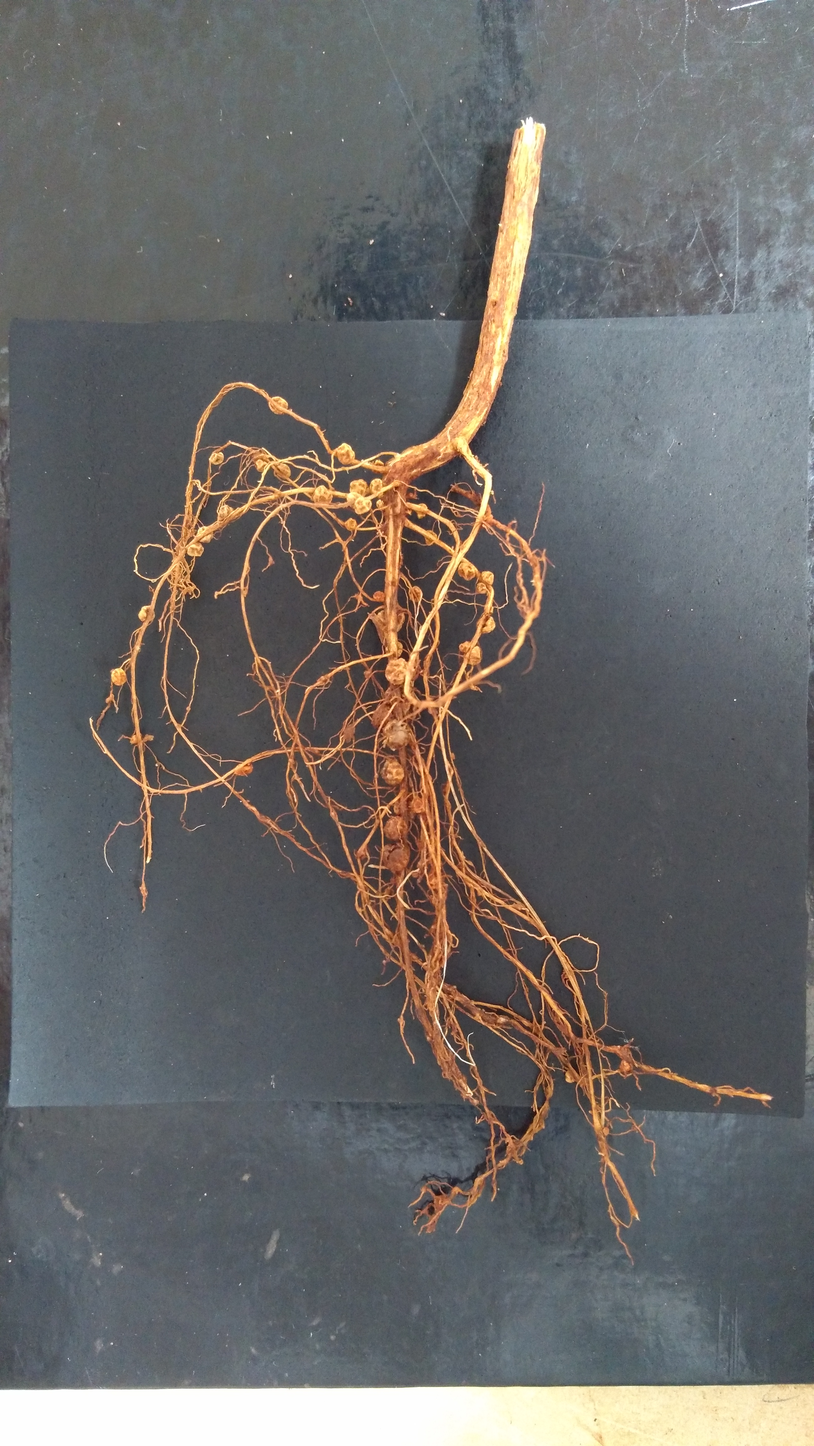nodule: (384, 685, 422, 722), (382, 718, 412, 750), (381, 843, 411, 872), (380, 756, 405, 786), (393, 792, 419, 819), (372, 702, 397, 729), (384, 657, 408, 685), (376, 609, 405, 632), (458, 640, 482, 666), (383, 816, 408, 839), (427, 859, 447, 886), (250, 449, 271, 473), (383, 489, 400, 516), (312, 484, 333, 505), (336, 443, 355, 465), (476, 614, 496, 634), (268, 396, 289, 415), (457, 561, 476, 581), (410, 794, 429, 813), (138, 604, 155, 625), (217, 504, 235, 522), (349, 479, 367, 497), (110, 667, 127, 686), (494, 1013, 514, 1029), (369, 478, 384, 499), (196, 525, 213, 543), (274, 462, 292, 479), (347, 492, 365, 509), (354, 496, 371, 514), (385, 640, 403, 657), (187, 540, 204, 557), (234, 761, 253, 776), (619, 1056, 634, 1073), (408, 585, 423, 602), (356, 843, 369, 861), (208, 451, 224, 465), (424, 529, 438, 545), (415, 503, 428, 520), (480, 570, 494, 585), (343, 724, 354, 743), (372, 459, 385, 474), (564, 1068, 575, 1083), (344, 518, 357, 530), (372, 591, 385, 602), (141, 733, 155, 743), (477, 582, 488, 594), (376, 499, 386, 512), (483, 513, 493, 526), (384, 887, 395, 898), (129, 734, 139, 745), (105, 692, 114, 704), (363, 668, 372, 679), (419, 1185, 428, 1193), (405, 507, 413, 516), (515, 1157, 523, 1165), (602, 1127, 609, 1136), (396, 1016, 404, 1023), (473, 455, 480, 463), (288, 757, 295, 764), (328, 486, 335, 492), (450, 752, 455, 760), (185, 705, 191, 711), (373, 773, 379, 779), (426, 1036, 432, 1042), (588, 1109, 594, 1115), (331, 512, 336, 519), (382, 959, 387, 966), (320, 676, 326, 680), (543, 1021, 546, 1024)
